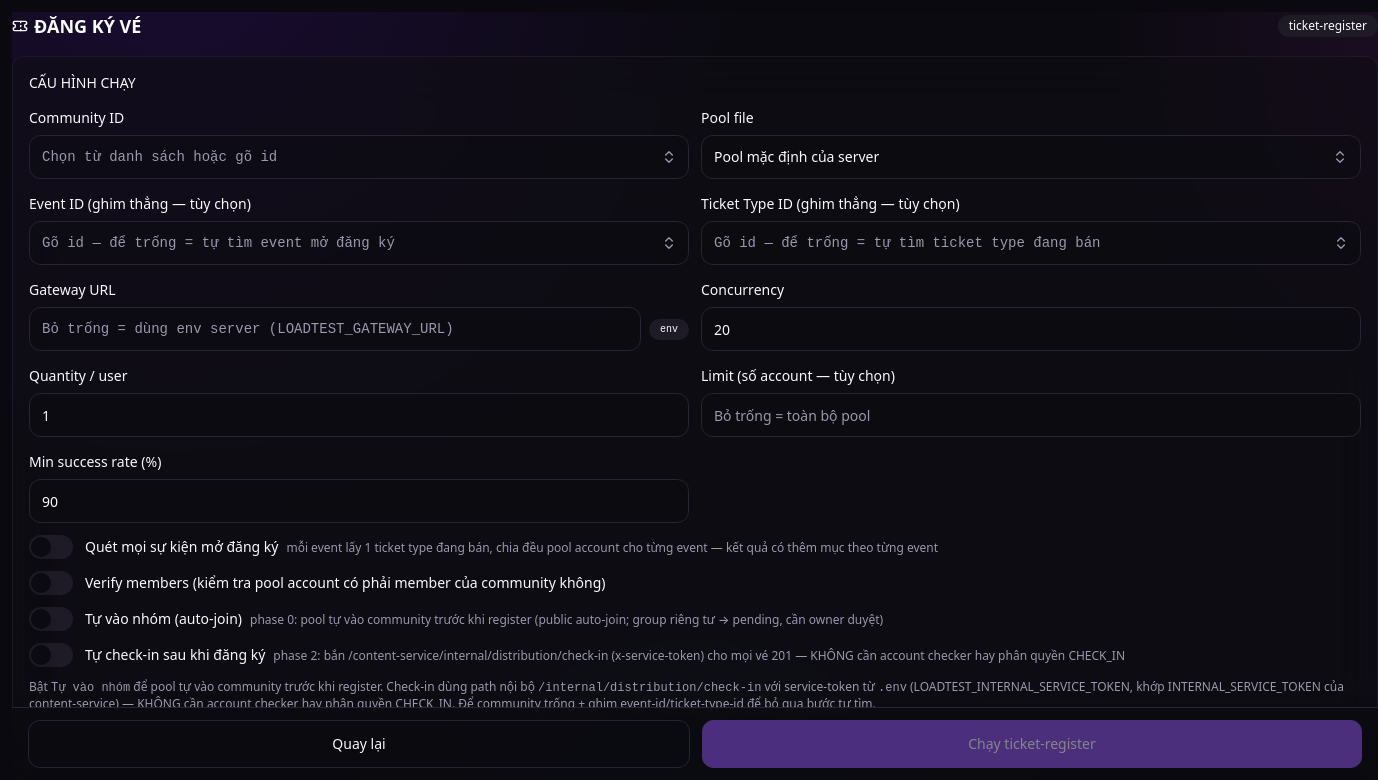
Test: TicketRegisterPage › chưa nhập community/event → nút chạy bị disabled, form không mất khi nhập
This screenshot has width=1378, height=780.
Expected: the button "Chạy ticket-register" is disabled, [702,720,1362,768]
# Fix A: input ô nhập vẫn hiện (page không skeleton hoá), nhập thử kích hoạt nút.
In the field labelled "Community ID": (359, 157) [29,135,689,179], type "cmty-1"
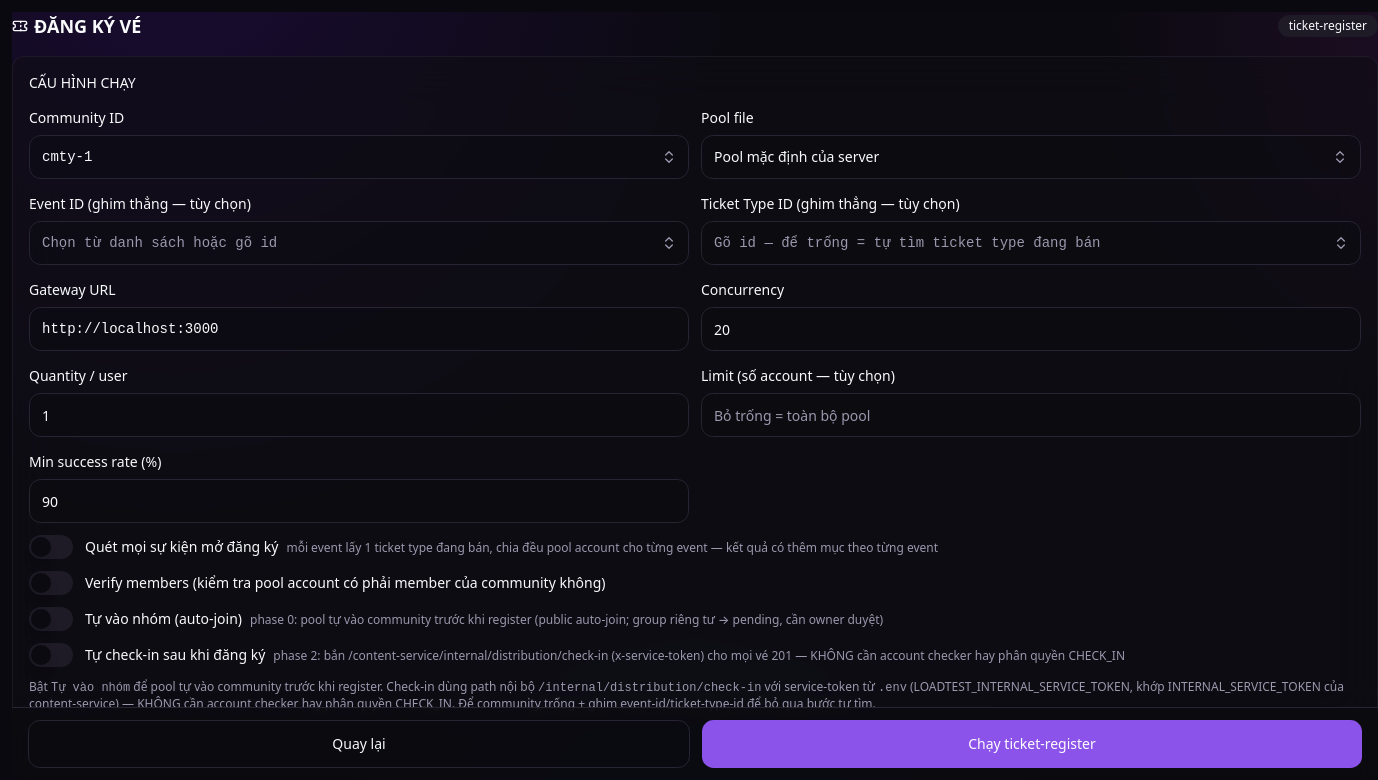
Expected: the button "Chạy ticket-register" is enabled, [702,720,1362,768]
